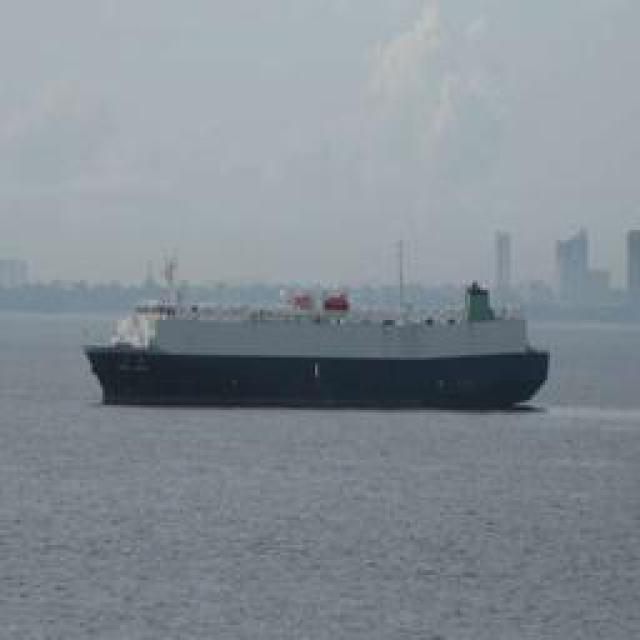Ship: (91, 286, 551, 411)
